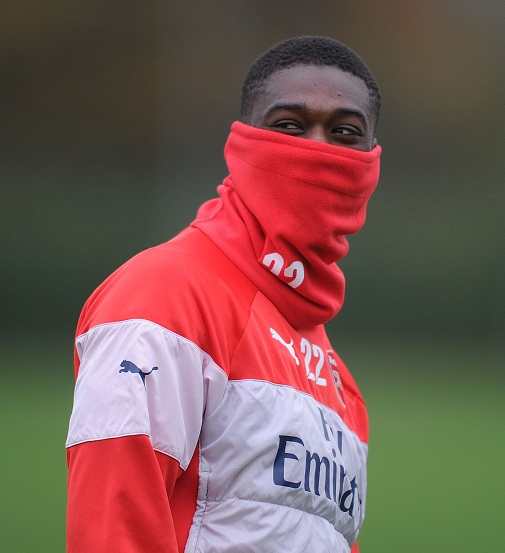face_mask: (247, 61, 370, 230)
